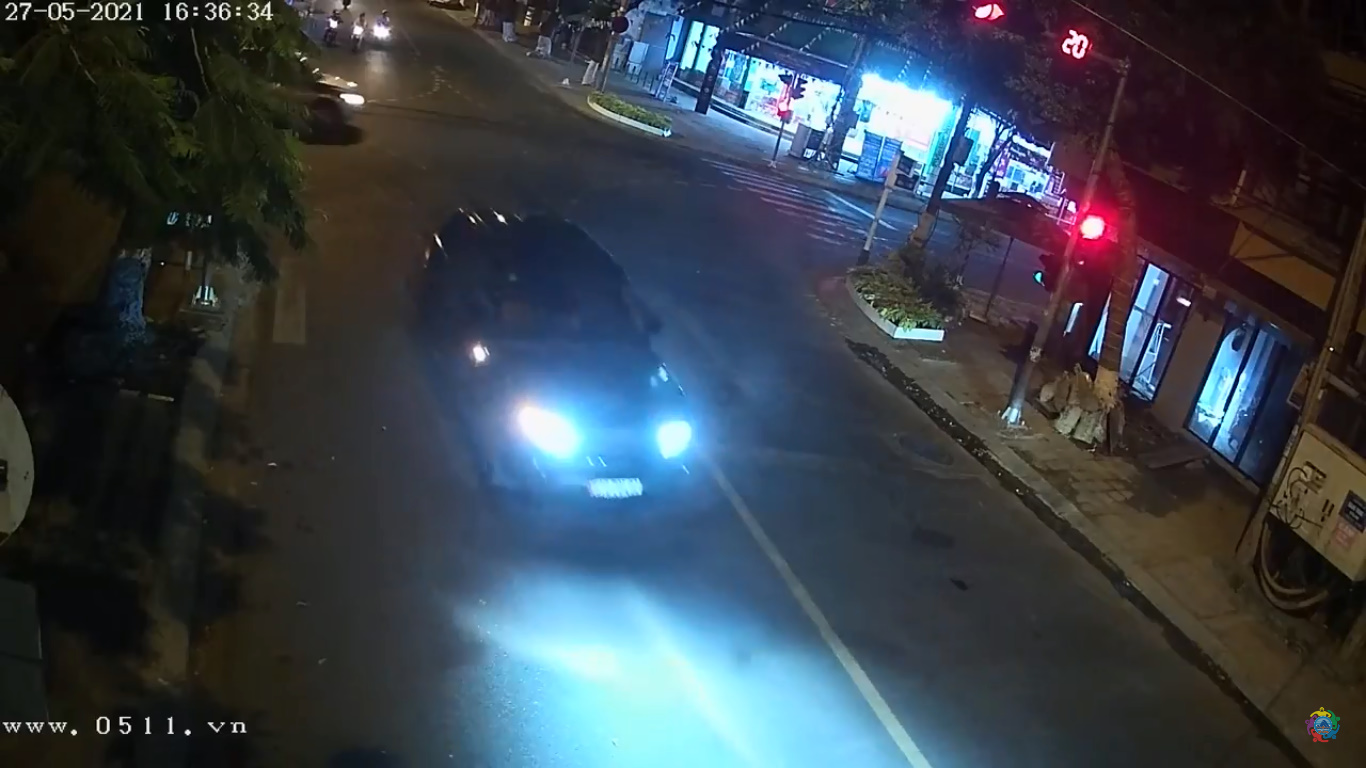car: (407, 204, 707, 524)
